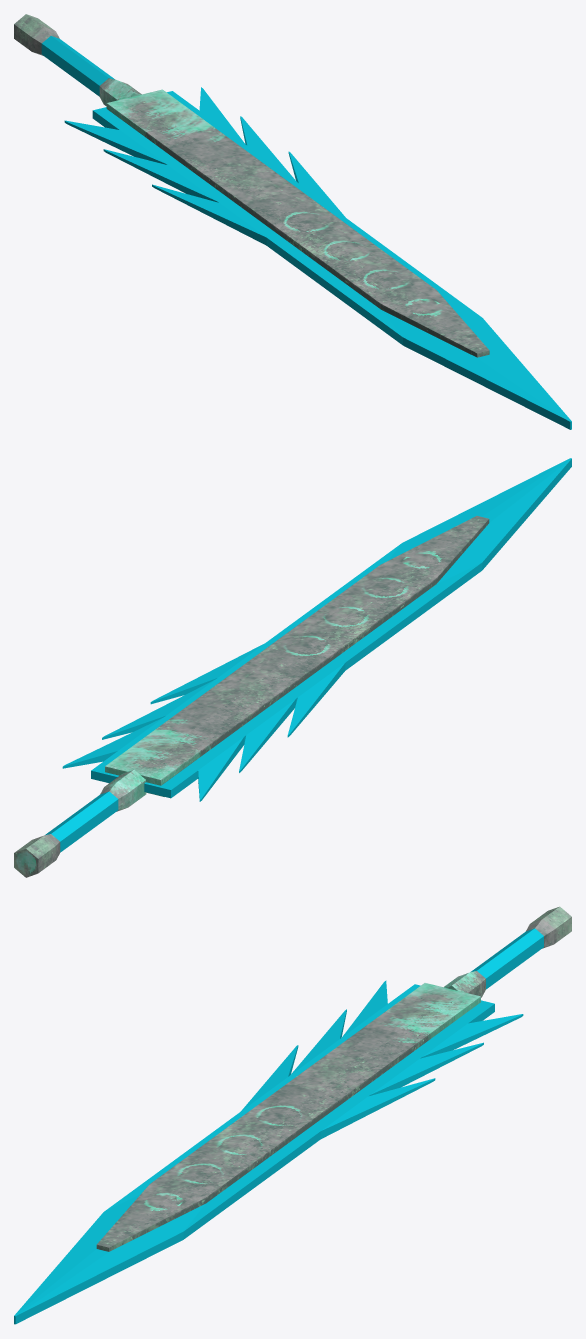
The model's file is sword.fbx.
3 views of the same model, one above another, from view 1: azimuth 30°, elevation 25°; view 2: azimuth 150°, elevation 25°; view 3: azimuth 330°, elevation 25° (orthographic).
Visible parts, largest first — view 1: Cylinder.001; view 2: Cylinder.001; view 3: Cylinder.001.
Boxes of the visible parts, x1,y1,x2,y2 form: Cylinder.001: [14, 14, 571, 429]; Cylinder.001: [14, 458, 571, 877]; Cylinder.001: [14, 906, 571, 1324].
Bounding box in the file's own units: 54.65 × 11.14 × 377.
